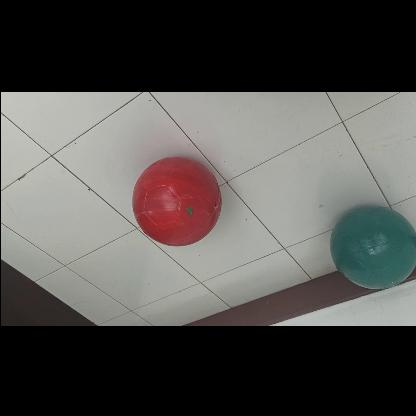red_ball: (130, 156, 218, 245)
